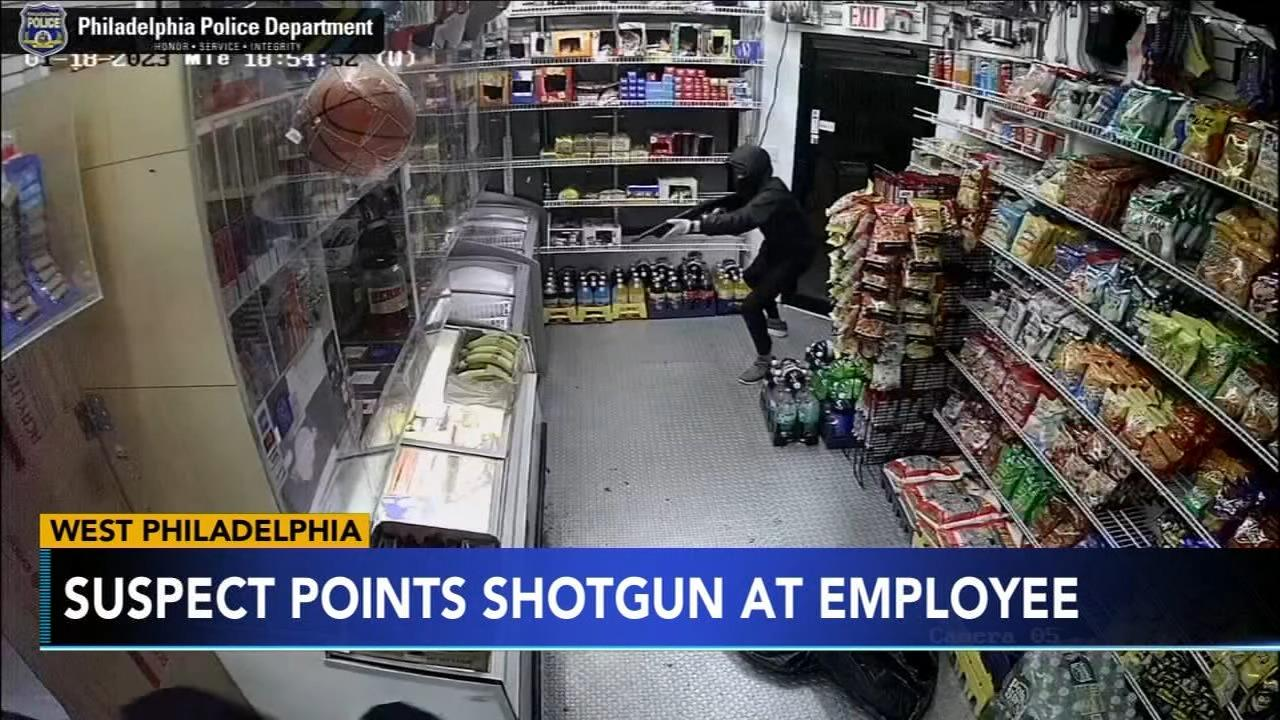shotgun: (620, 196, 727, 241)
